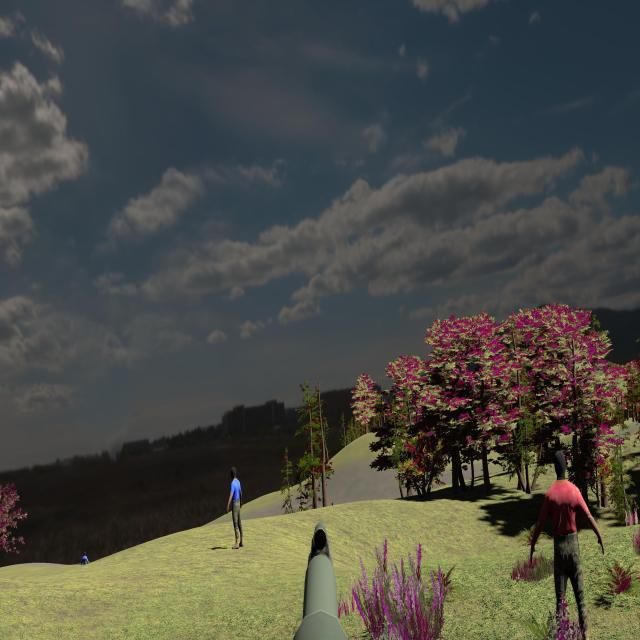Human: (529, 448, 605, 640), (228, 466, 243, 549)
